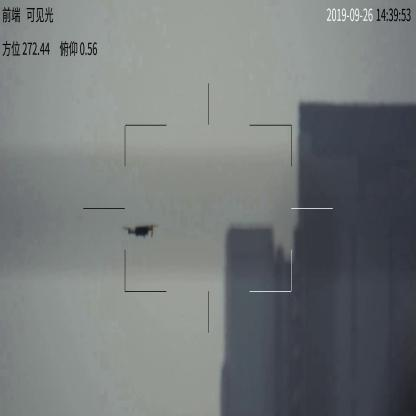uav: (122, 221, 158, 242)
